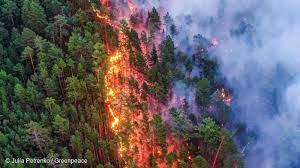fire: (56, 1, 217, 168)
